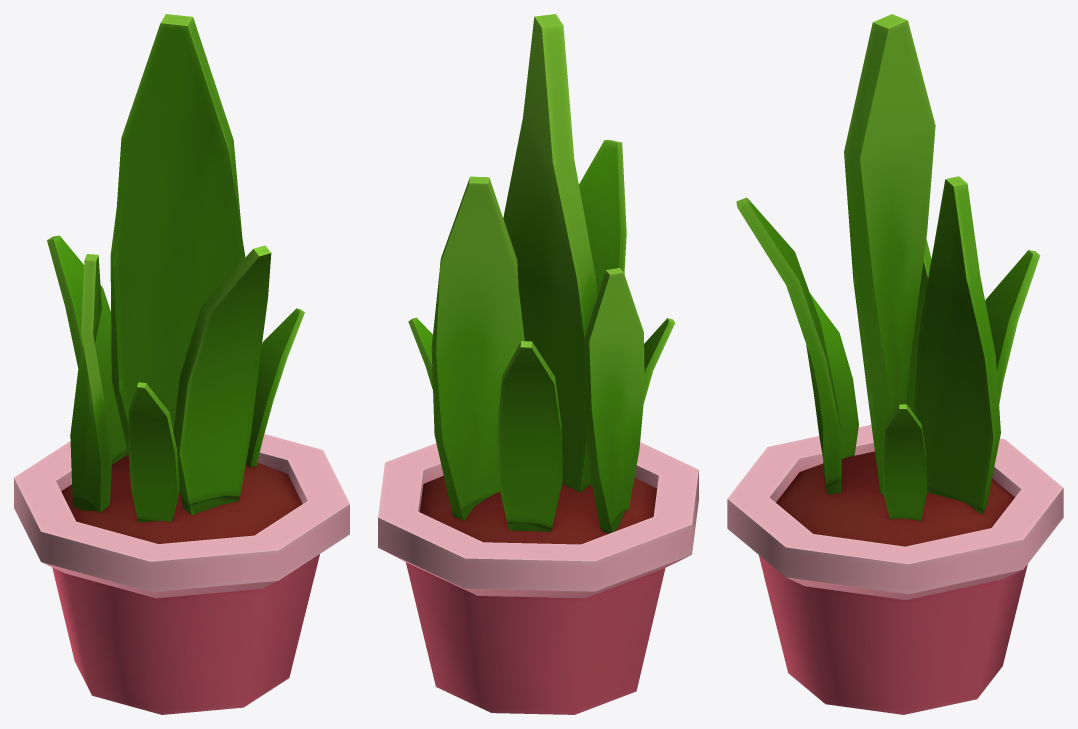
File: cay5.fbx
The picture shows the model from 3 angles, left to right: view 1: azimuth 30°, elevation 25°; view 2: azimuth 150°, elevation 25°; view 3: azimuth 270°, elevation 25°; orthographic projection.
Visible parts, largest first — view 1: group1; view 2: group1; view 3: group1.
Boxes of the visible parts, left/top/right/bottom form: group1: left=14, top=14, right=349, bottom=714; group1: left=378, top=14, right=698, bottom=714; group1: left=727, top=14, right=1063, bottom=714.
Size of the model in its own units: 63.33 by 134 by 63.33.
1 material, 1 textured.
